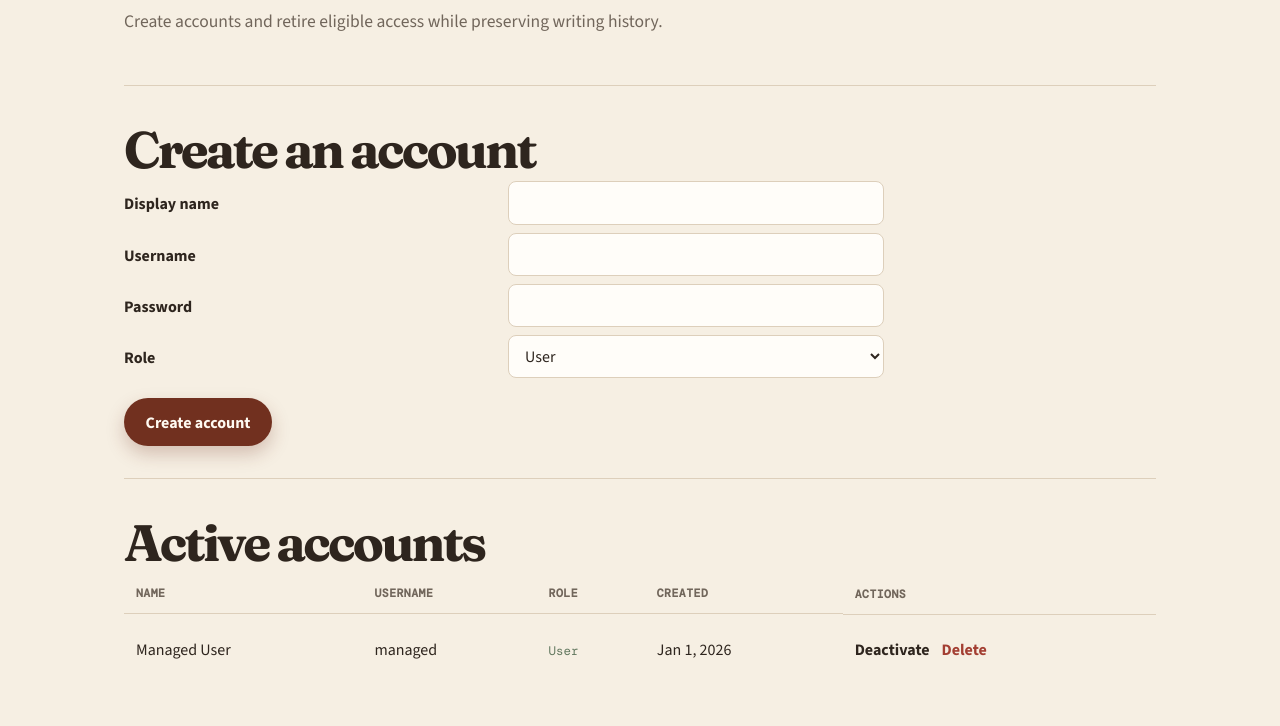
Scenario: administration pages › confirms deletion and surfaces a users helper error
This screenshot has width=1280, height=726.
(page scrolled)
Expected: the text "Managed User" is shown, [124, 614, 362, 684]
Click the button named "Delete managed". click: [964, 649]
box: [942, 631, 987, 668]
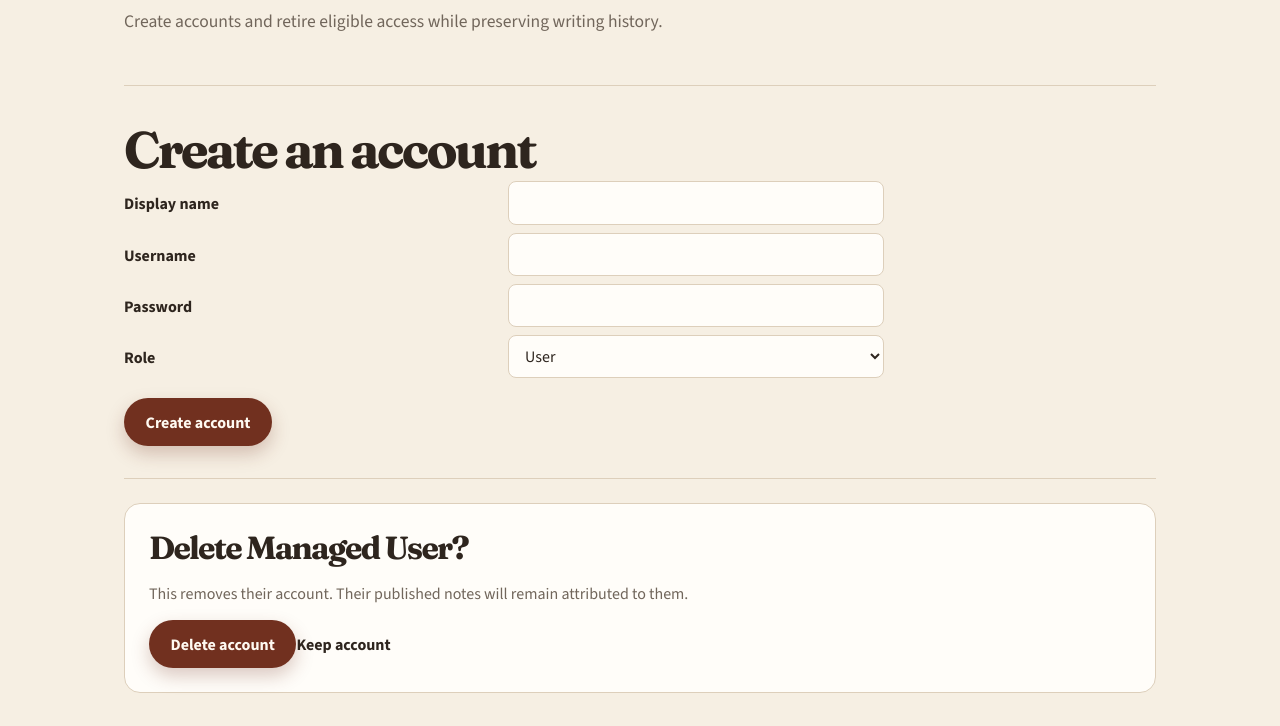
Expected: the dialog shows "Delete Managed User?", [124, 503, 1156, 694]
Click the button "Delete account". click: [223, 644]
box: [149, 620, 296, 668]
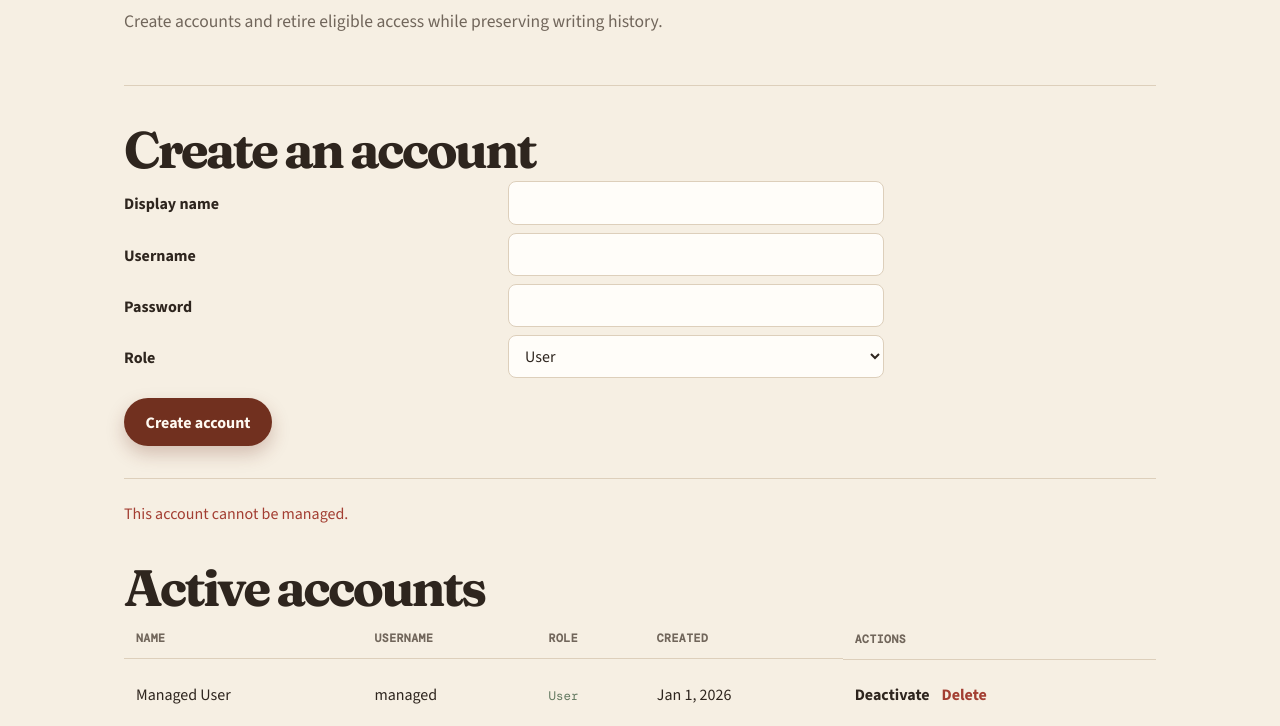
Expected: the message reads "This account cannot be managed.", [124, 503, 348, 524]
